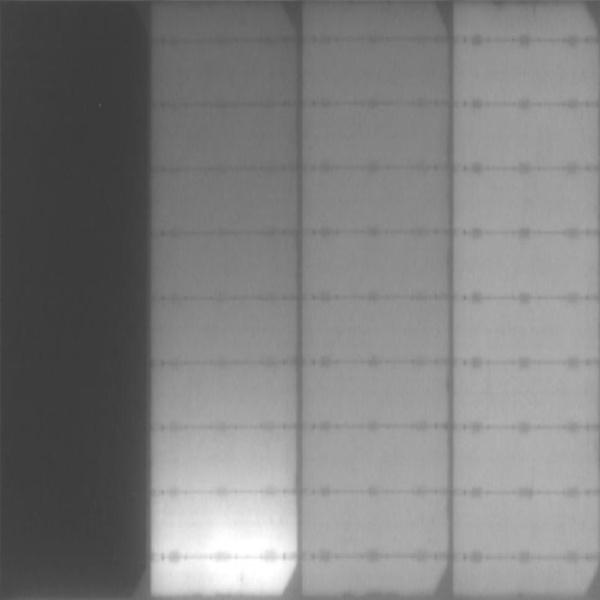hot_spot: (205, 528, 276, 554), (211, 561, 282, 586)
no_electricity: (1, 1, 147, 595)
